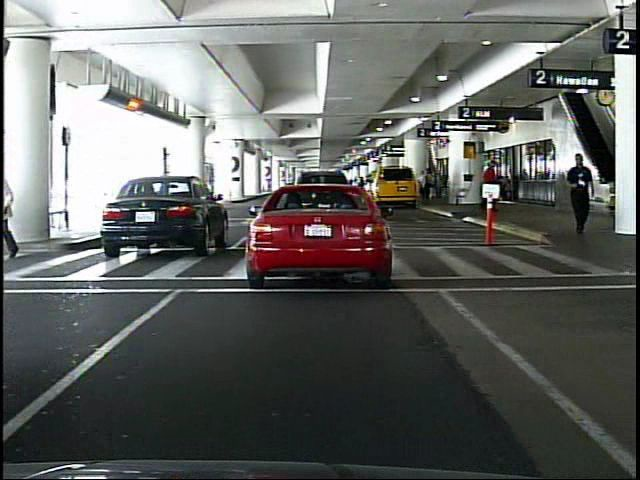person: (566, 151, 594, 238), (0, 173, 27, 259), (479, 160, 502, 215), (417, 166, 431, 202)
